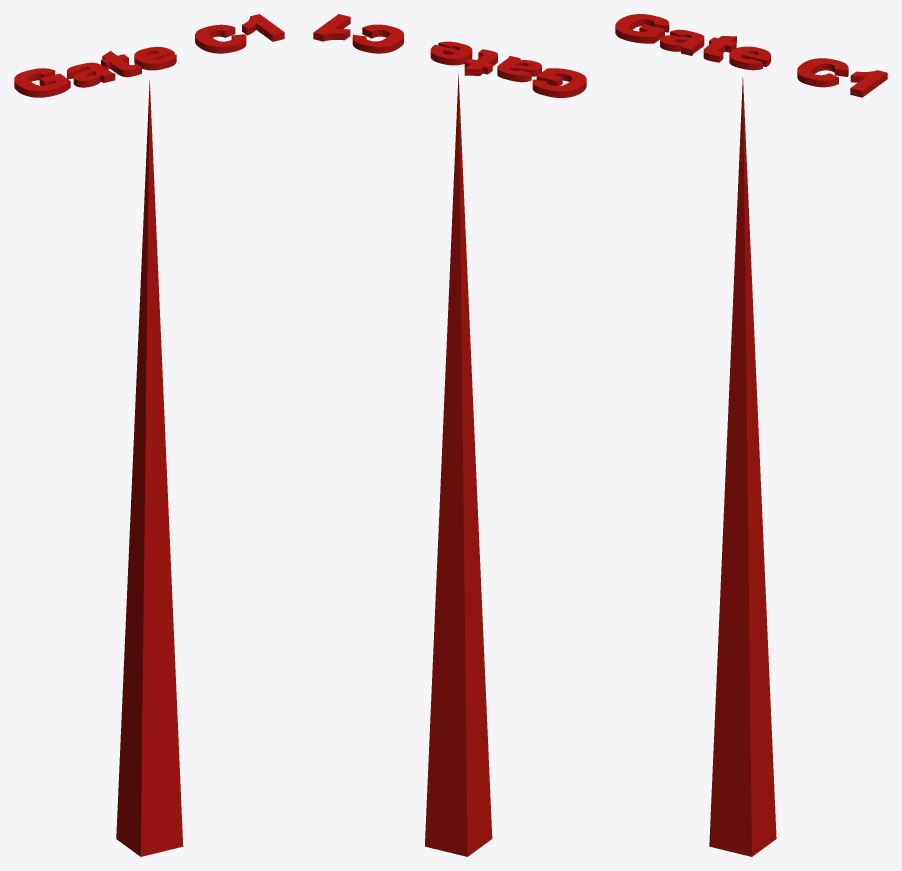
File: Tag_Gate_C1.FBX
3 renders of one model, left to right at view 1: azimuth 30°, elevation 25°; view 2: azimuth 150°, elevation 25°; view 3: azimuth 330°, elevation 25°, orthographic.
Visible parts, largest first — view 1: Tag_Nail_Gate005, Tag_Text_Gate_006; view 2: Tag_Nail_Gate005, Tag_Text_Gate_006; view 3: Tag_Nail_Gate005, Tag_Text_Gate_006.
Boxes of the visible parts, x1,y1,x2,y2 form: Tag_Nail_Gate005: (116,80,183,856); Tag_Text_Gate_006: (14,14,284,97); Tag_Nail_Gate005: (425,73,492,856); Tag_Text_Gate_006: (313,14,586,97); Tag_Nail_Gate005: (709,77,776,856); Tag_Text_Gate_006: (615,14,887,97).
Bounding box in the file's own units: 658 × 1944 × 132.
